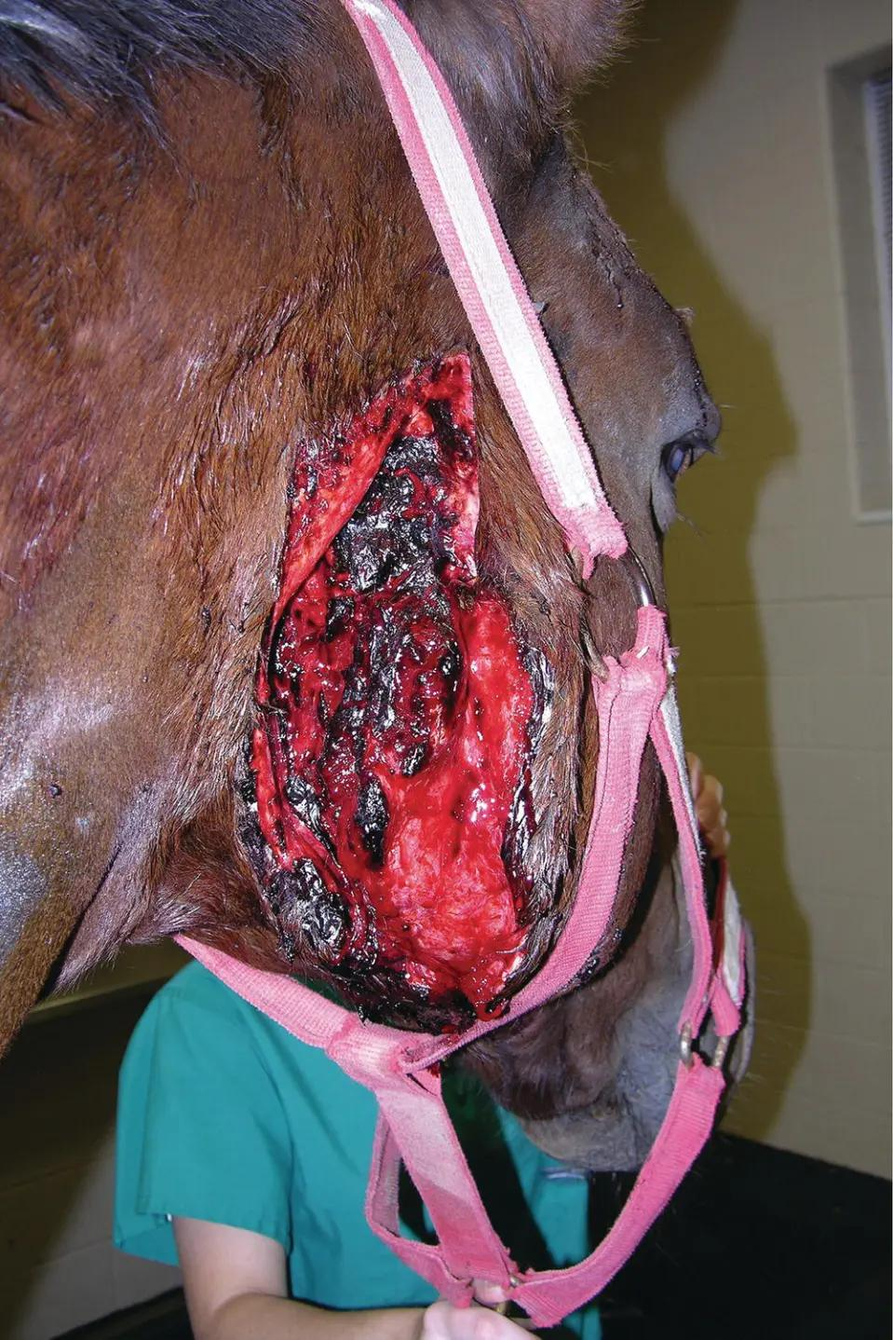bleeding: (228, 299, 620, 1094)
